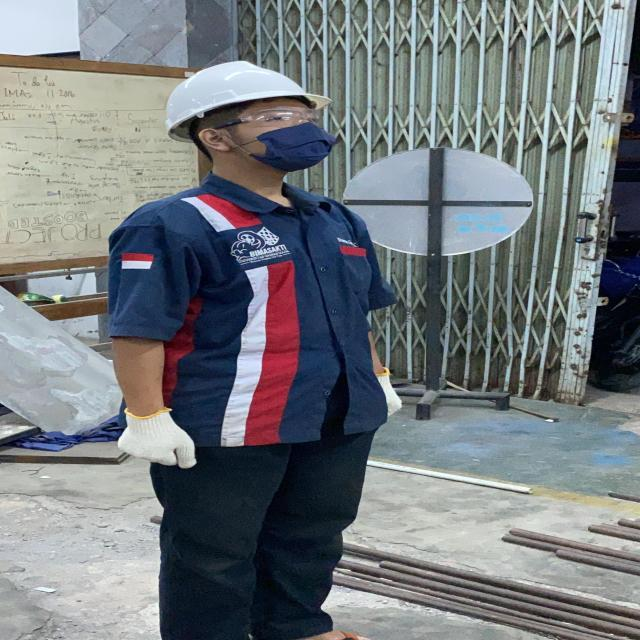glasses: (210, 104, 325, 130)
